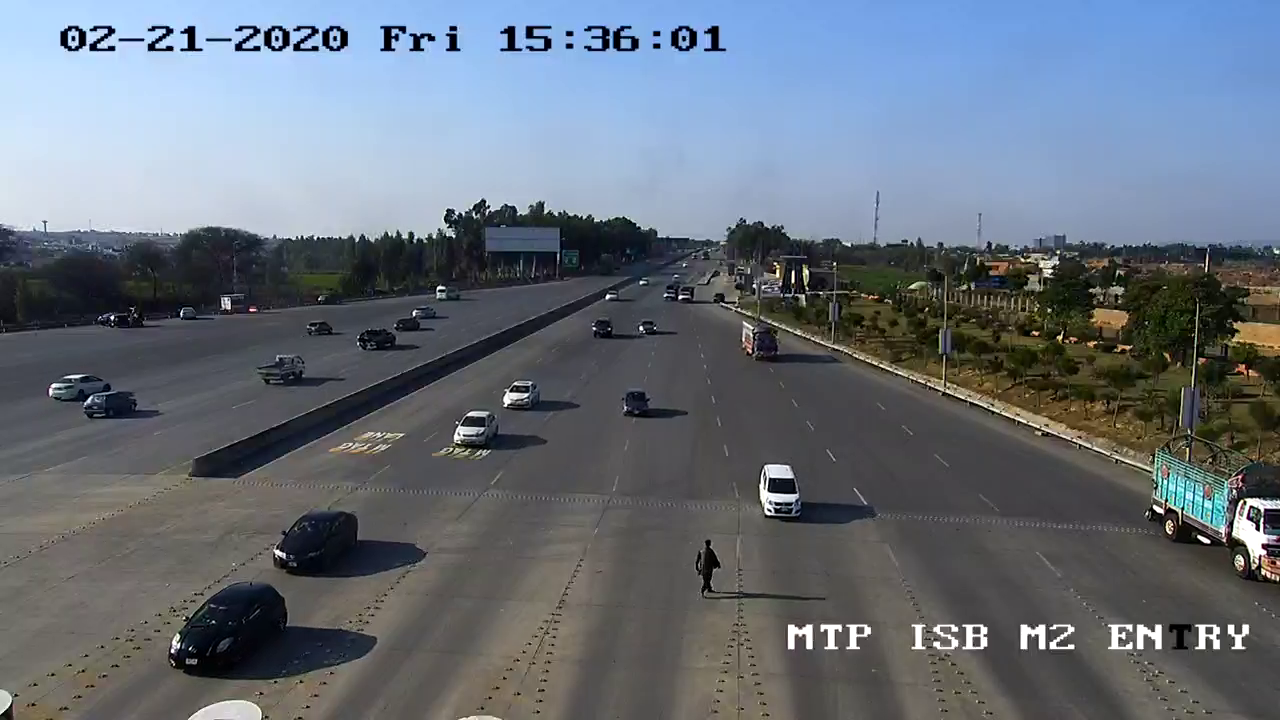f1: (148, 563, 303, 680), (260, 501, 377, 580), (745, 460, 811, 529), (442, 403, 508, 457), (492, 371, 551, 417), (612, 381, 659, 428)
